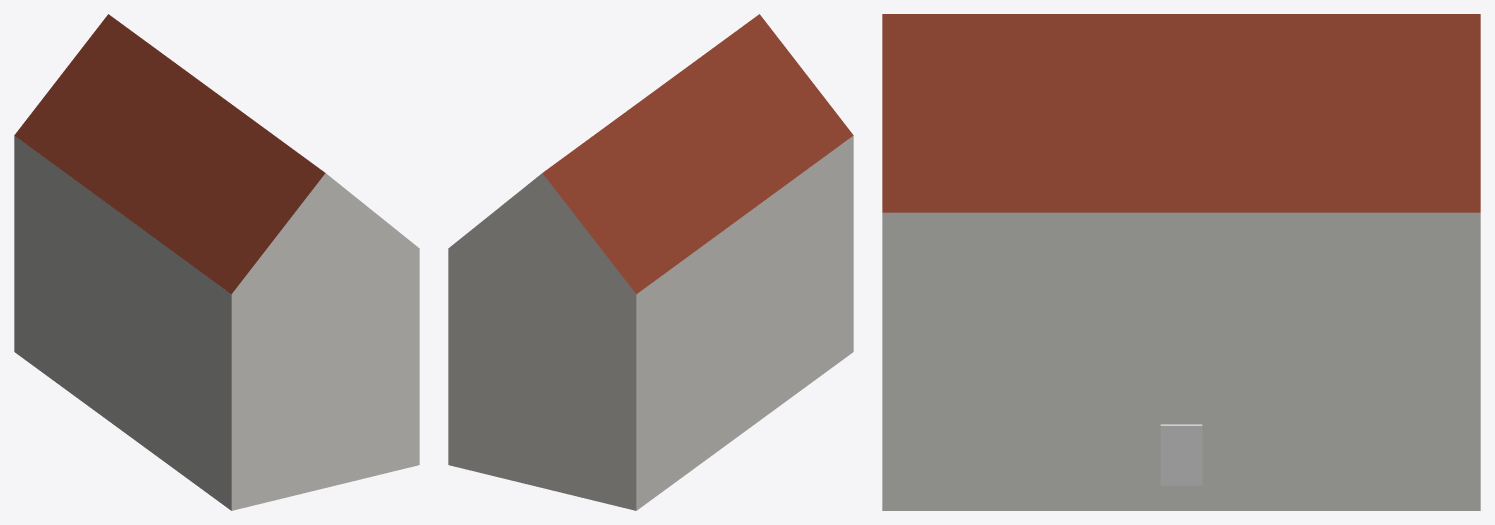
The model's file is house_1.0ea2wCZX.glb.
The picture shows the model from 3 angles, left to right: view 1: azimuth 30°, elevation 25°; view 2: azimuth 150°, elevation 25°; view 3: azimuth 270°, elevation 25°; orthographic projection. The views are drawn at different scales.
Parts seen in each view (by area): view 1: base, roof; view 2: base, roof; view 3: base, roof, Würfel.
Boxes of the visible parts, box(x1,y1,x2,y2) form: base: box(14, 135, 419, 510); roof: box(14, 14, 419, 294); base: box(448, 135, 853, 510); roof: box(448, 14, 853, 294); base: box(882, 212, 1480, 510); roof: box(882, 14, 1480, 212); Würfel: box(1160, 424, 1202, 485).
Bounding box in the file's own units: 1.01 × 1.6 × 2.
